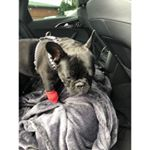puppy: (33, 33, 112, 109)
